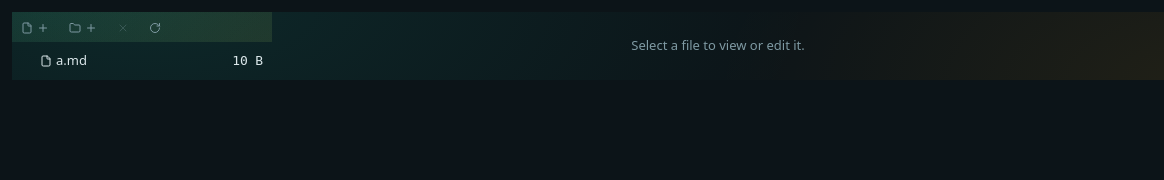
ExplorerView › shows the save failure and keeps the buffer dirty, so the work is not lost
Expected: the text "a.md" is shown, [56,51,87,69]
Click the button with test id "explorer-item". click: [71, 60]
box: [12,44,272,76]
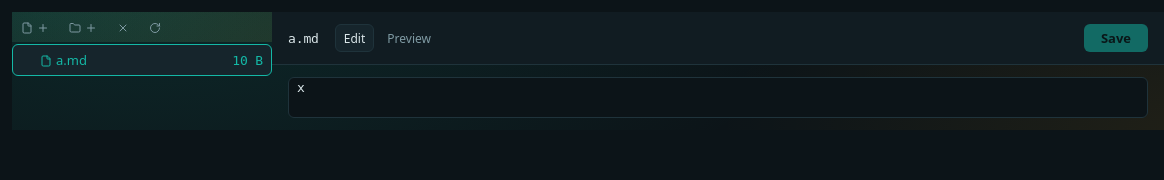
Expected: the text box is shown
Replace the text in the text box with "y". click: [718, 98]
box: [288,77,1148,118]
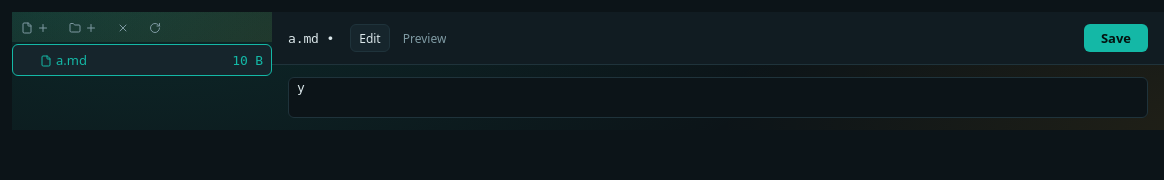
Click the button "Save". click: [1116, 38]
box: [1084,24,1148,52]
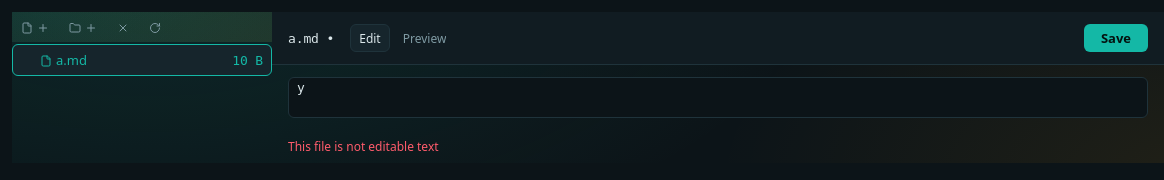
Expected: the button "Save" is enabled, [1084,24,1148,52]
Expected: the text "This file is not editable text" is shown, [288,138,439,155]
